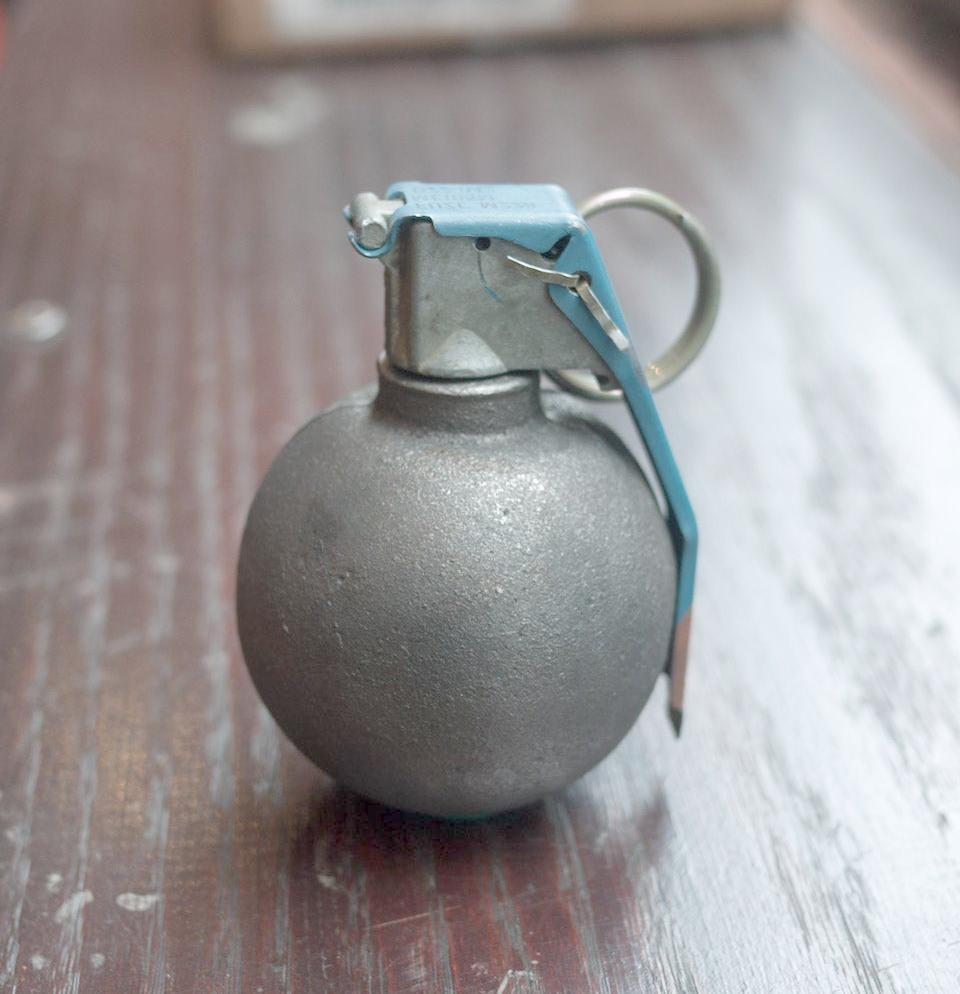Grenade: (237, 181, 701, 825)
